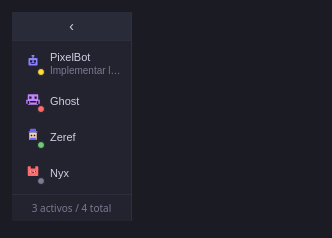
Scenario: AgentSidebar › toggles collapsed state when toggle button clicked
The image size is (332, 238).
Step 1. Click the button titled "Colapsar sidebar" → (72, 26), box x1=12 y1=12 x2=131 y2=41
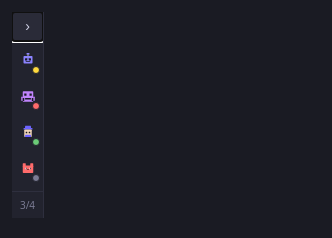
Check: the element with class "collapsed" is shown, box x1=12 y1=12 x2=44 y2=218
